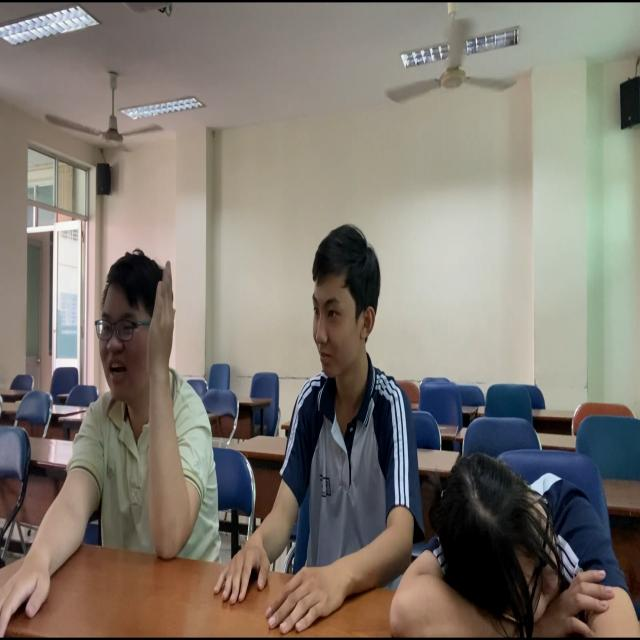raise_hand: (71, 246, 197, 571)
sleep: (396, 449, 639, 640)
